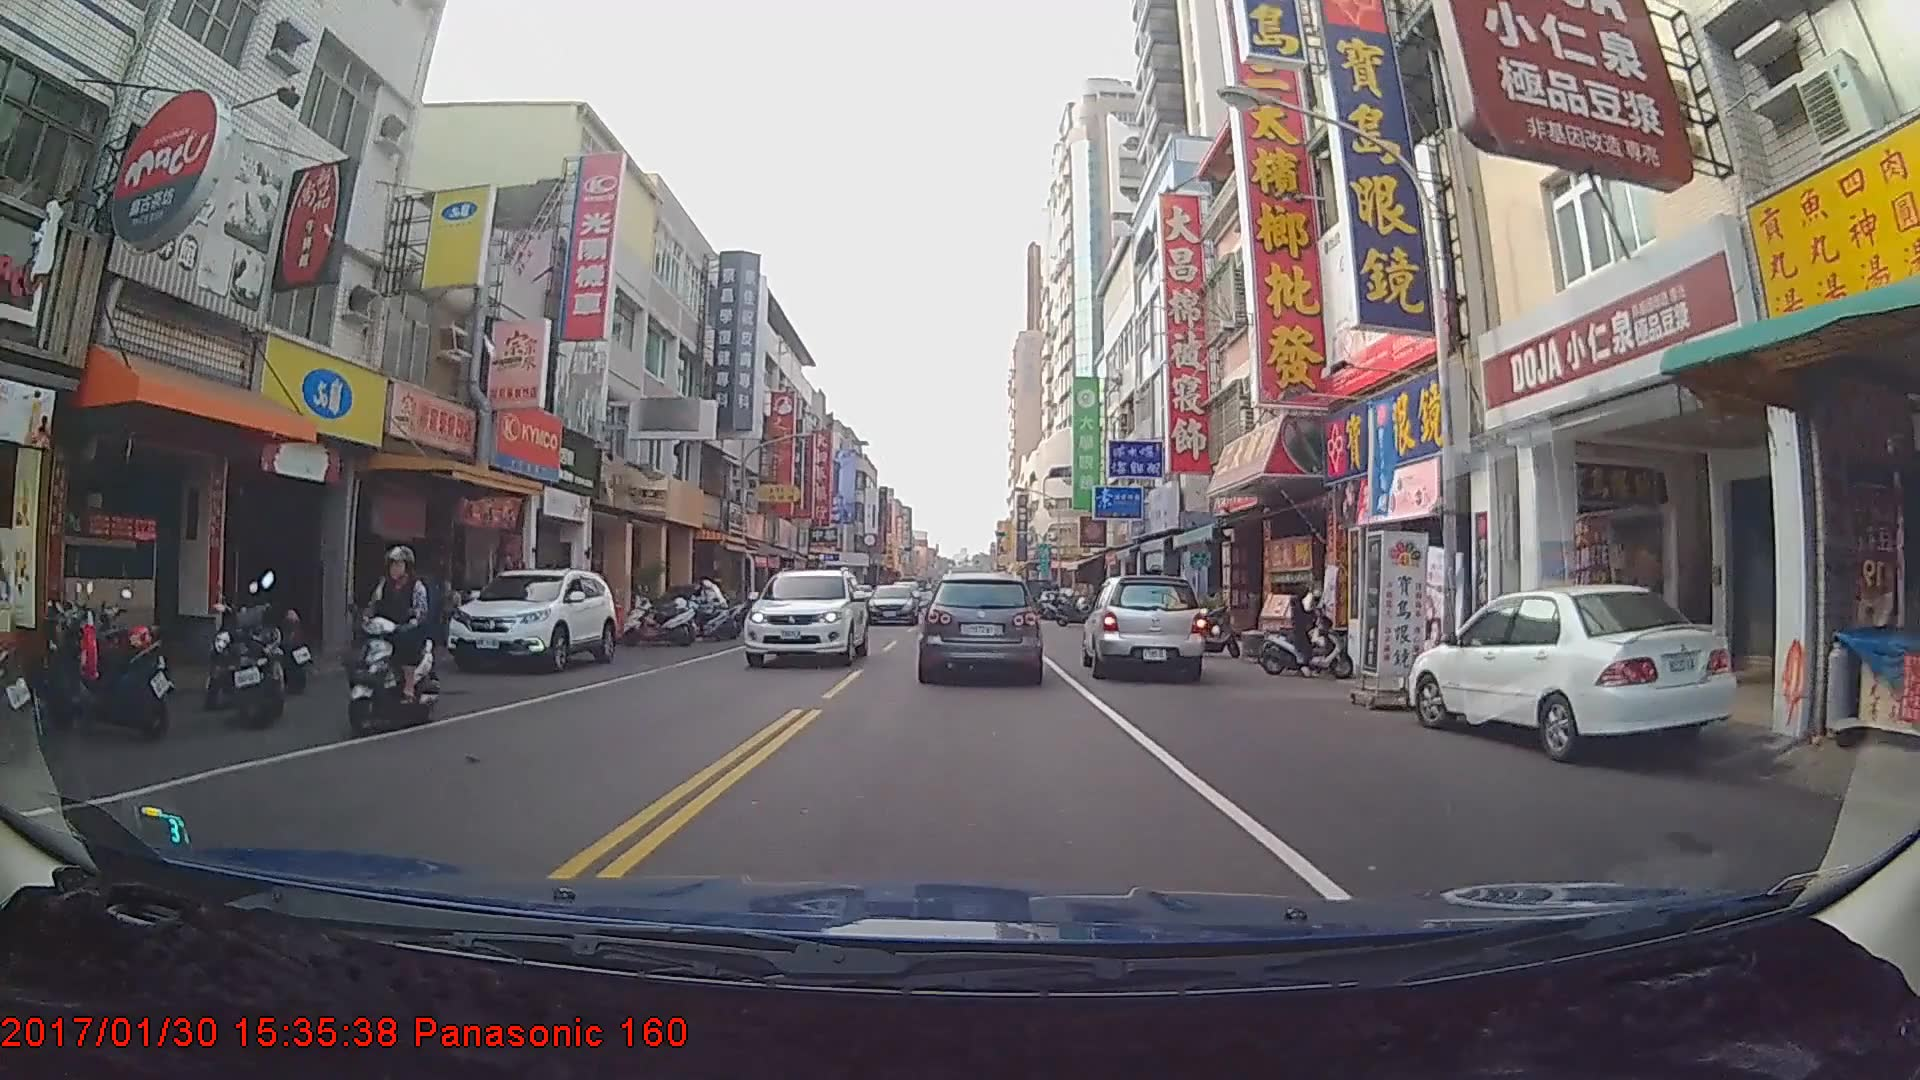rider: (343, 548, 442, 741), (1255, 577, 1360, 683)
vehicle: (1408, 587, 1741, 757), (444, 567, 615, 673), (1081, 573, 1203, 684), (922, 572, 1042, 682), (740, 568, 868, 667), (862, 583, 917, 626)
